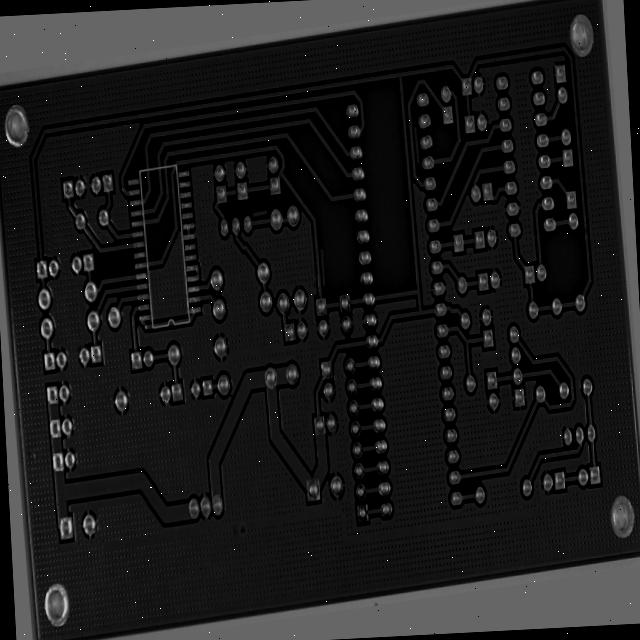spurious_copper: (319, 240, 331, 289), (419, 115, 429, 165), (251, 189, 271, 204)
